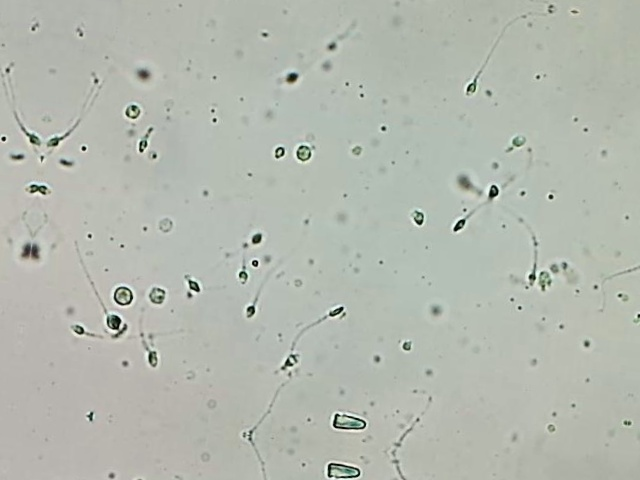sperm: (31, 196, 97, 286), (15, 30, 75, 112), (425, 0, 505, 54), (248, 0, 320, 51), (260, 269, 316, 328), (223, 221, 264, 289), (250, 316, 284, 382), (38, 305, 98, 329), (117, 296, 147, 344), (434, 183, 468, 217), (208, 212, 244, 244), (228, 393, 256, 423), (438, 162, 469, 184), (520, 225, 532, 267), (510, 210, 530, 235), (129, 110, 145, 140), (229, 240, 243, 270), (172, 264, 192, 282), (29, 178, 45, 190)
